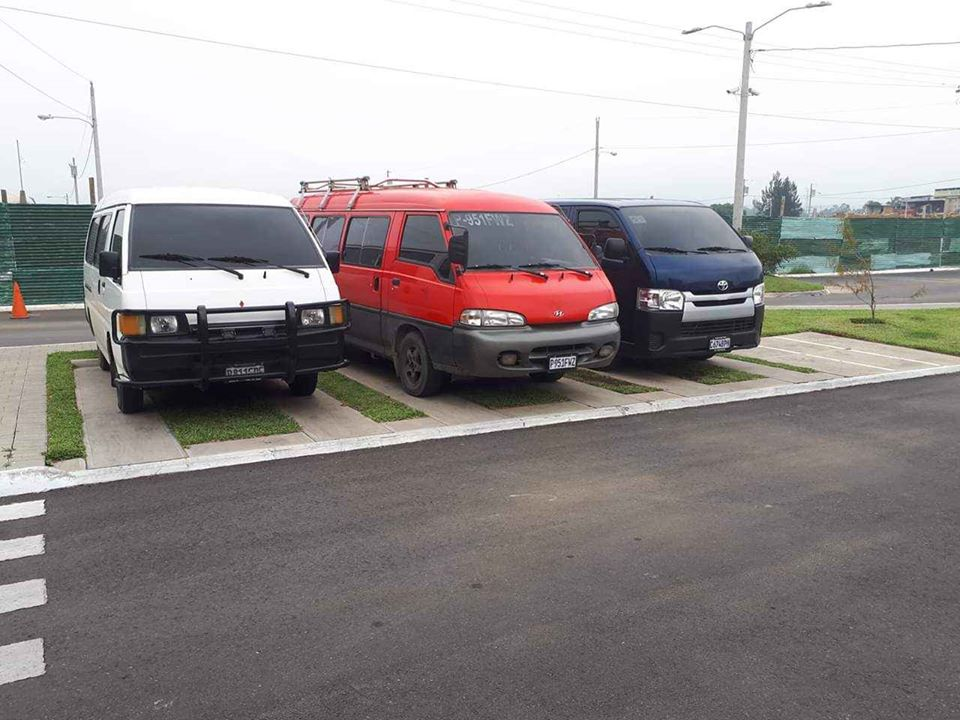bus: (79, 190, 348, 419), (356, 178, 618, 410), (625, 177, 773, 398)
